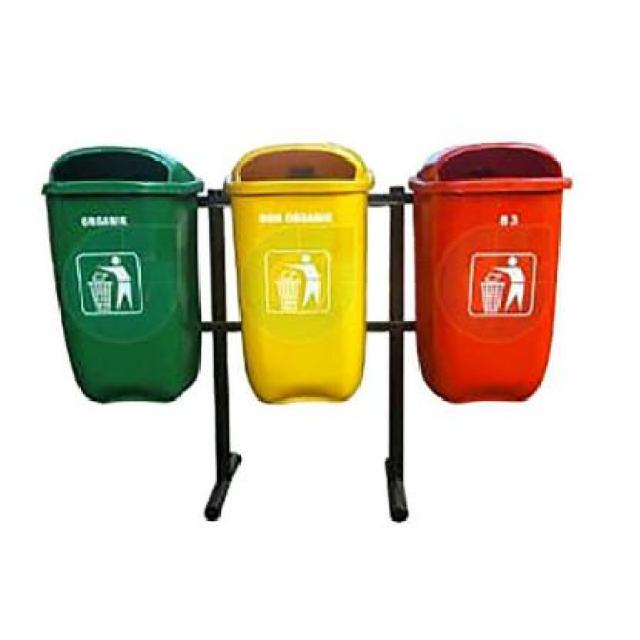garbage container: (30, 138, 212, 422), (400, 129, 578, 413), (212, 131, 380, 418)
